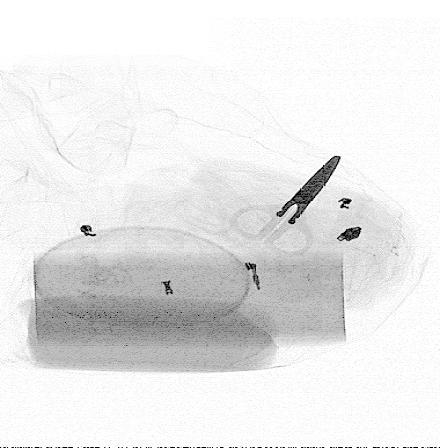Scissors: (227, 155, 343, 259)
